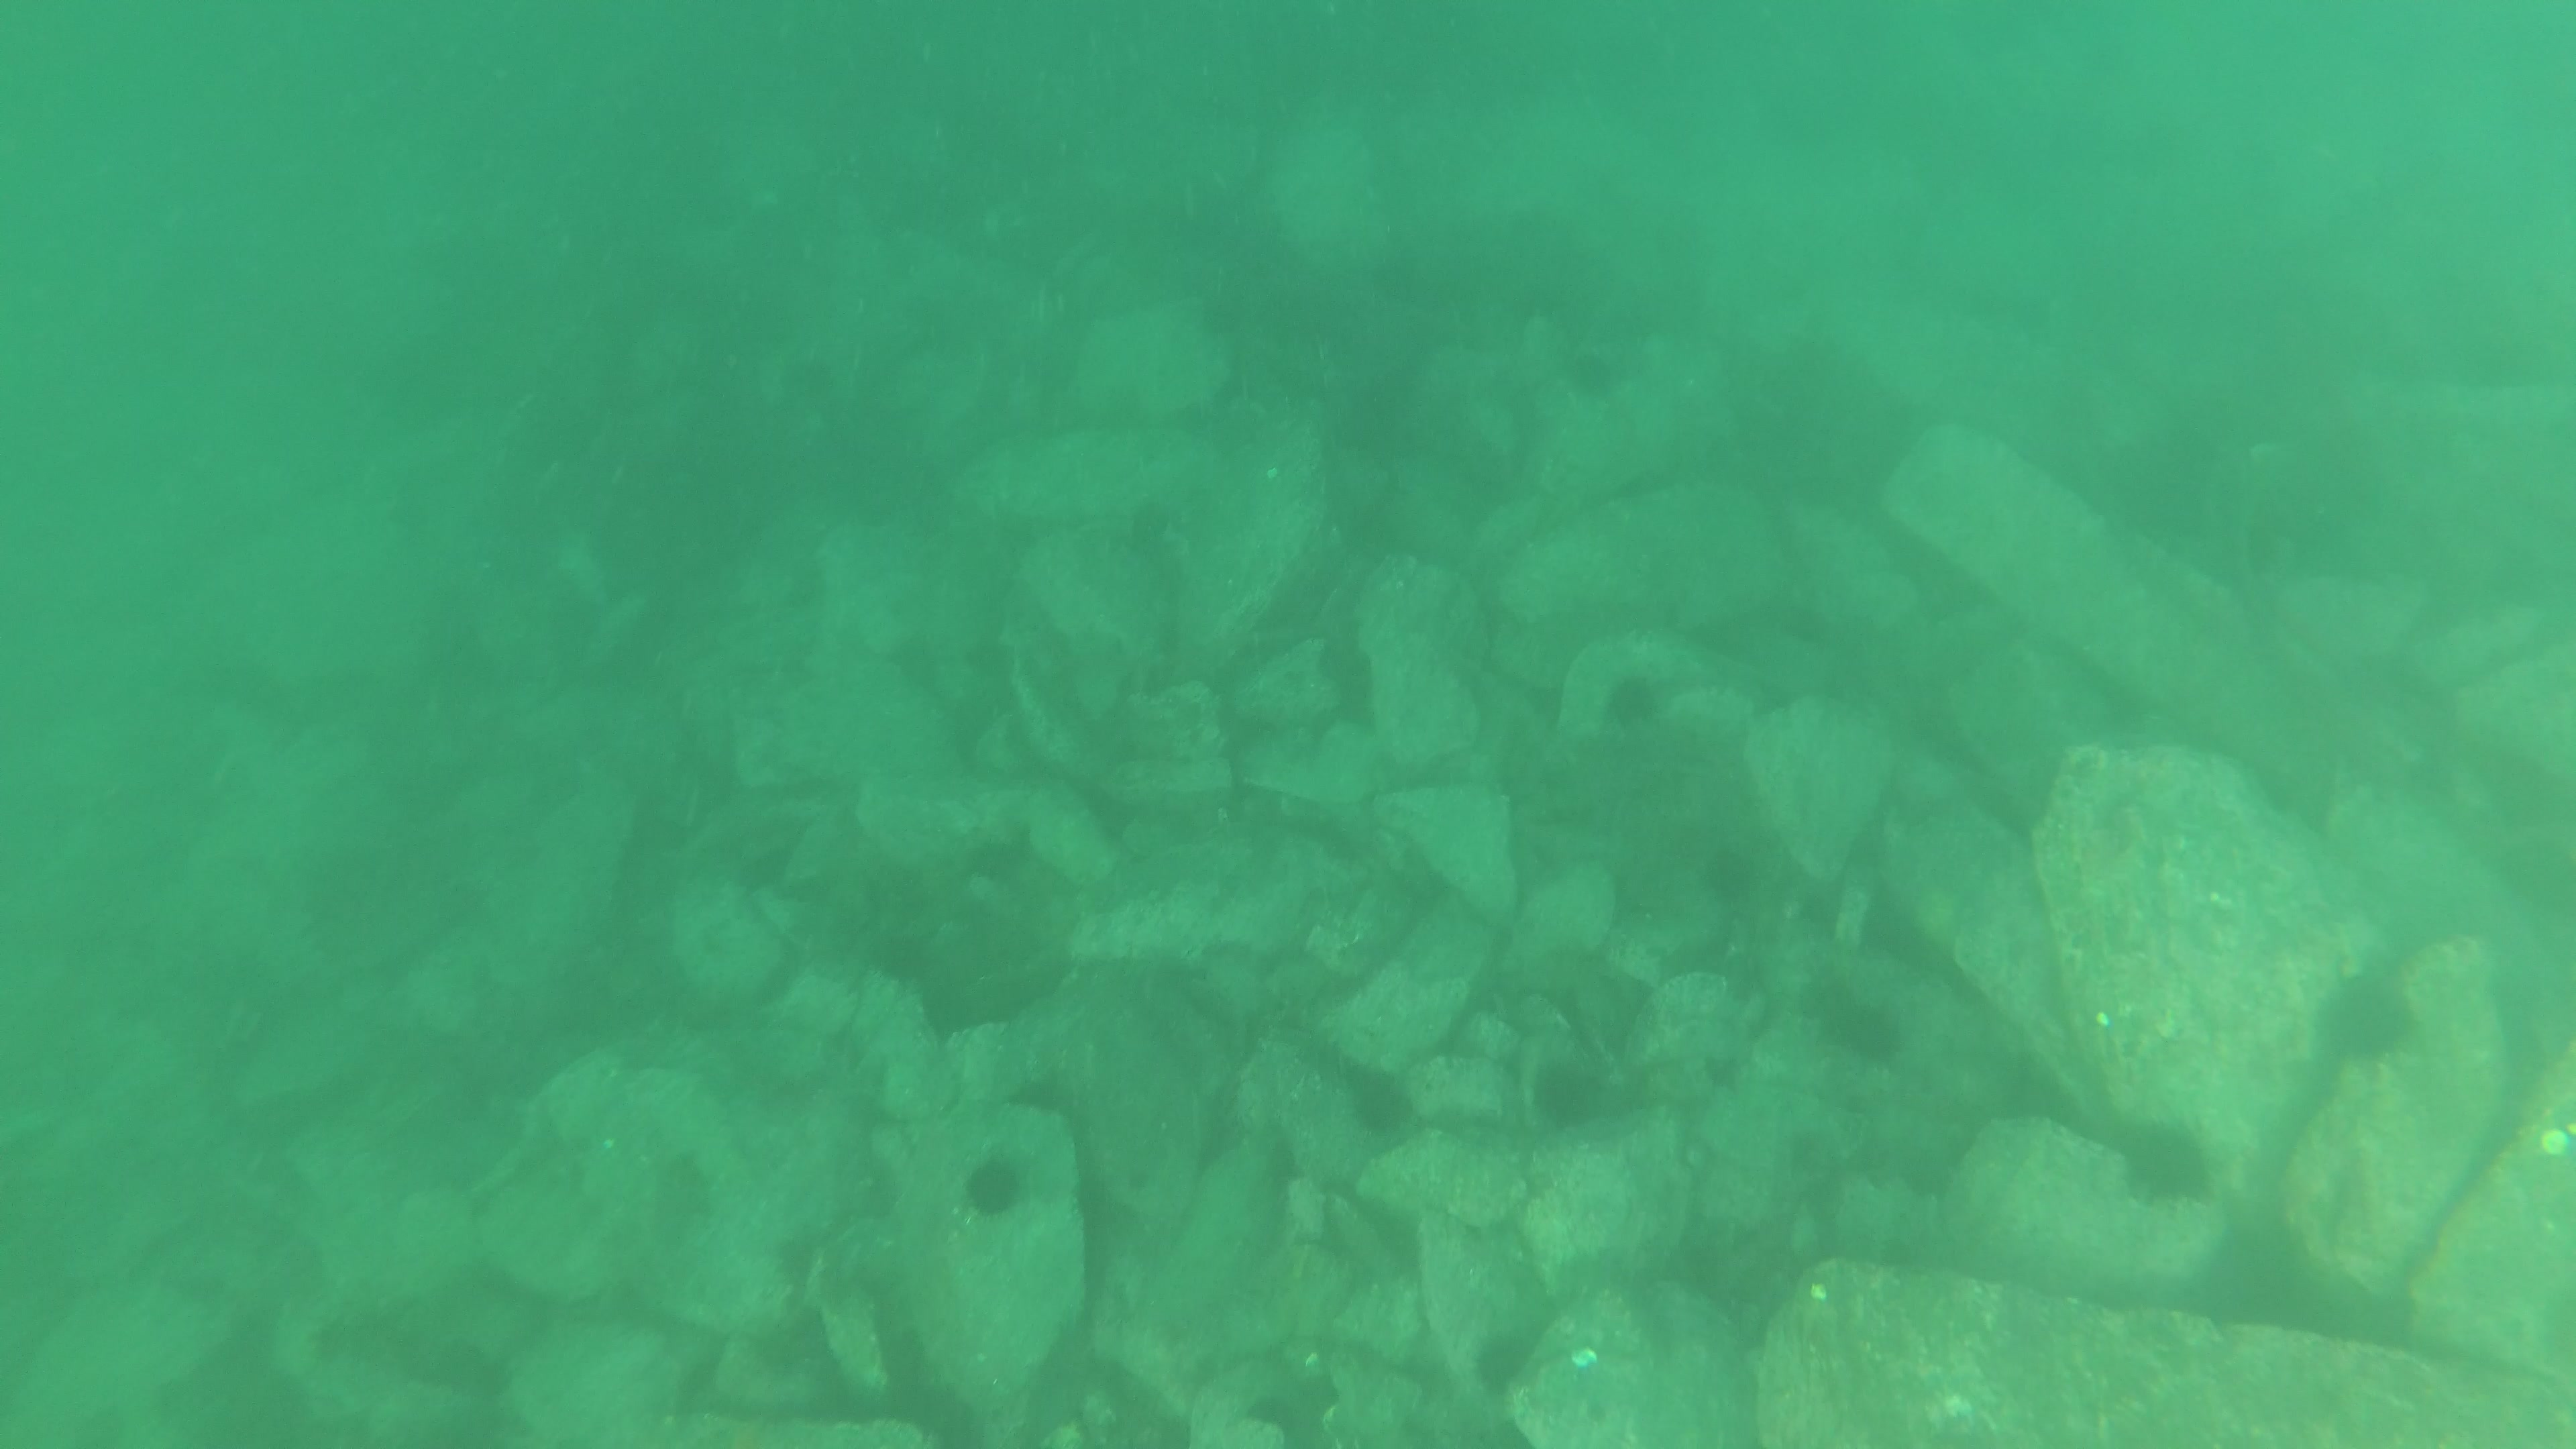echinus: (2125, 1123, 2229, 1208), (2332, 973, 2417, 1054), (961, 1154, 1023, 1219)
